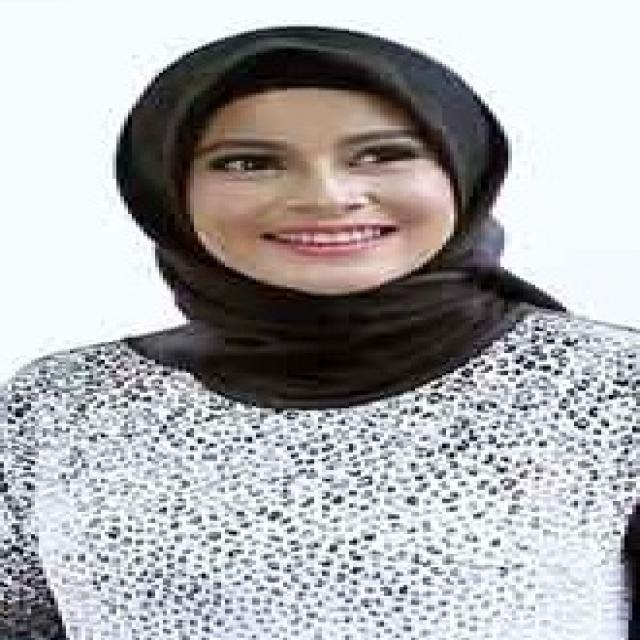head: (121, 19, 513, 296)
